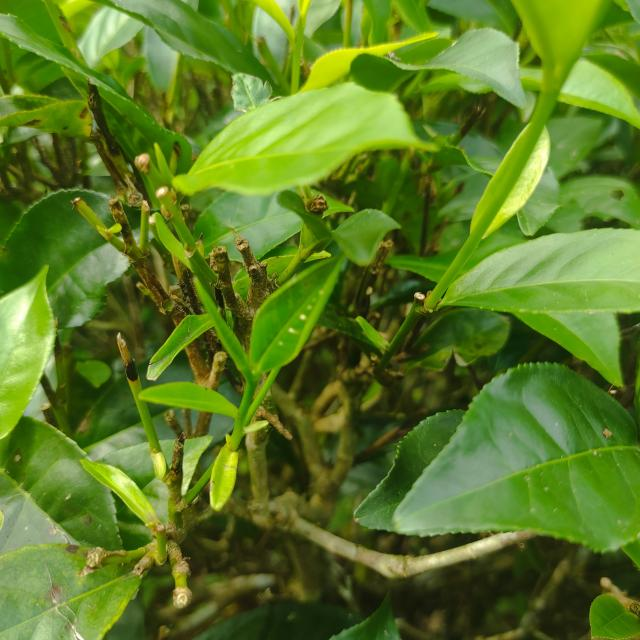unopened_leaf: (189, 266, 255, 384), (150, 136, 177, 192)
